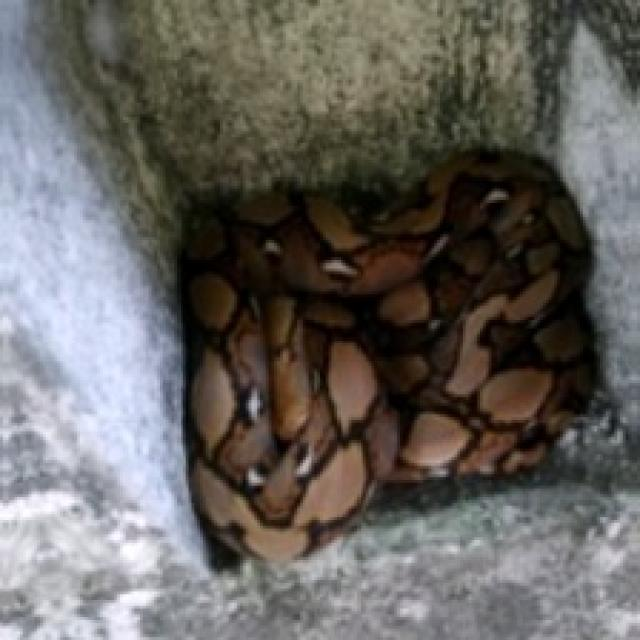reticulated python: (183, 151, 594, 560)
